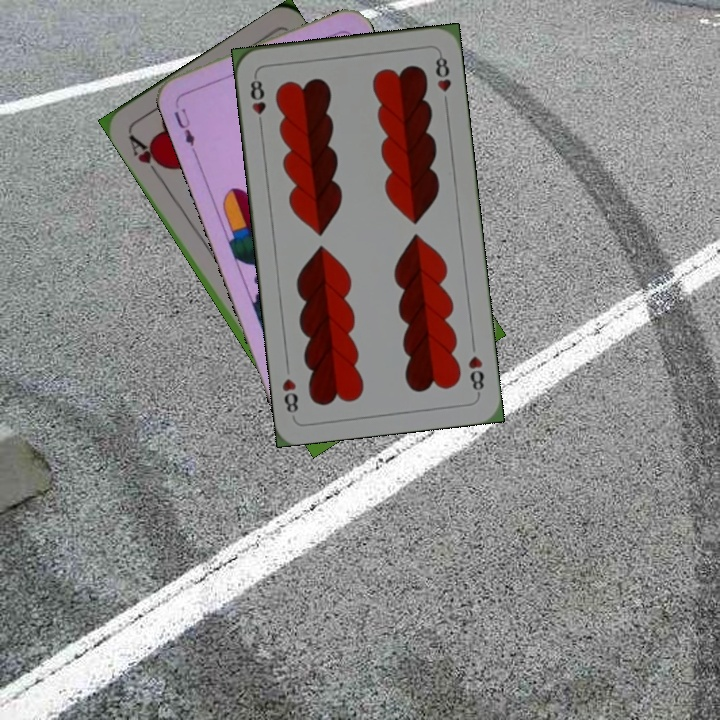EU: (169, 97, 198, 155)
H8: (246, 71, 268, 131), (464, 351, 487, 398)
HA: (124, 130, 169, 182)
